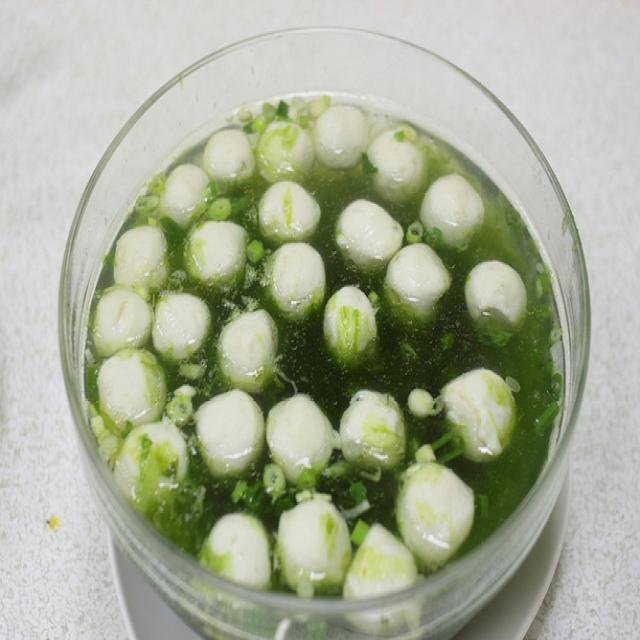熟制海鲜: (45, 21, 597, 614)
